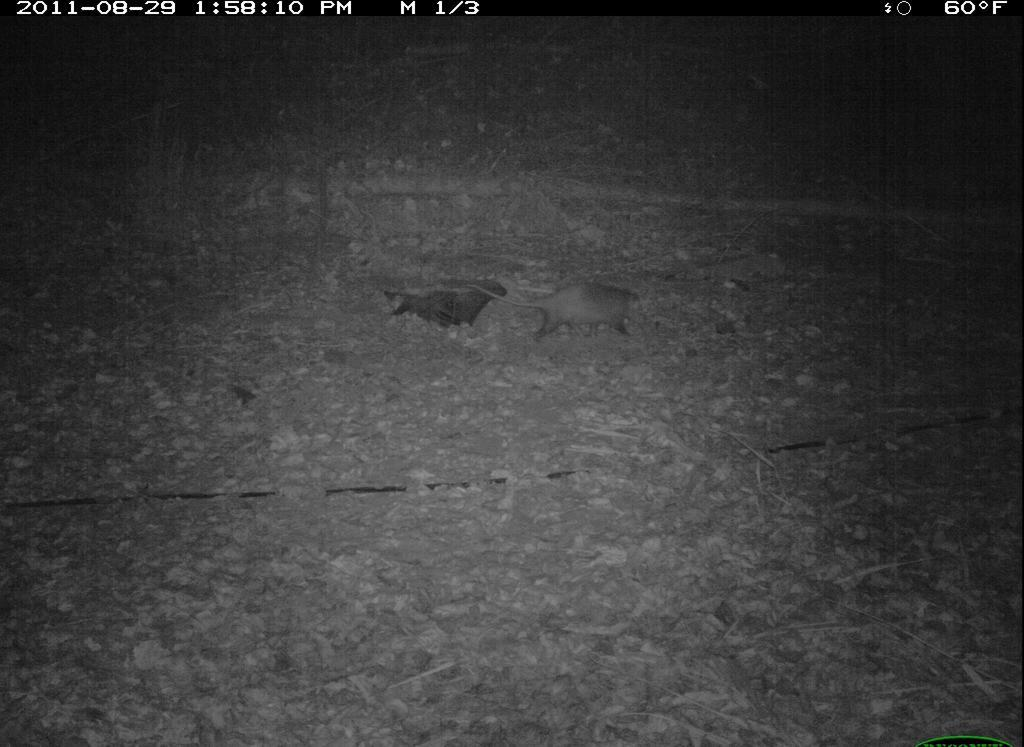opossum: (473, 268, 651, 349)
